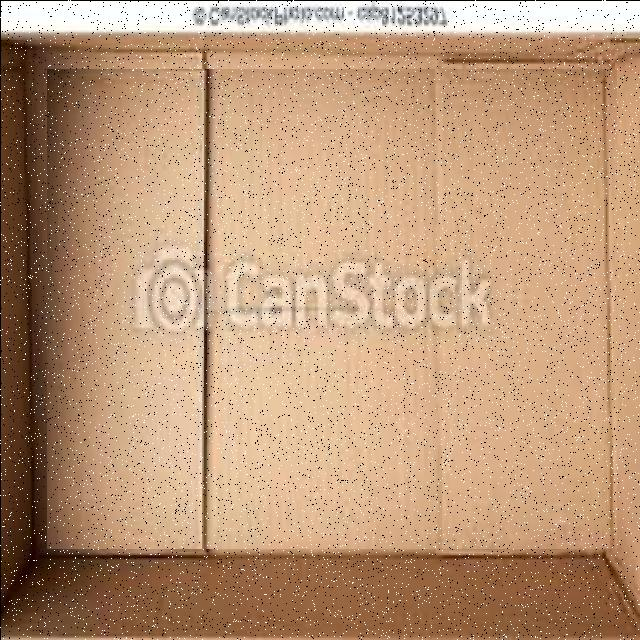normal: (46, 68, 616, 548)
